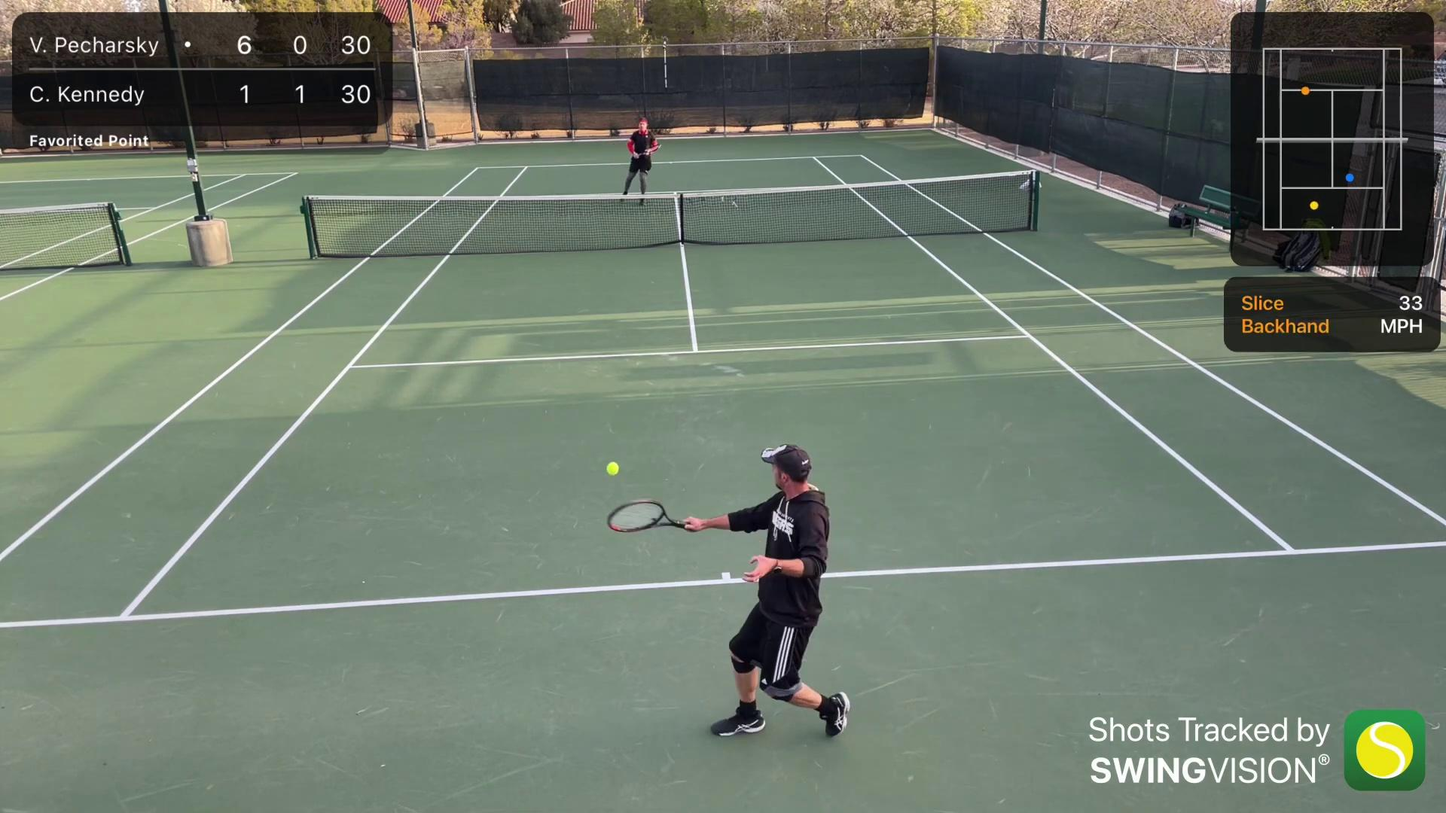ball: (607, 460, 619, 479)
